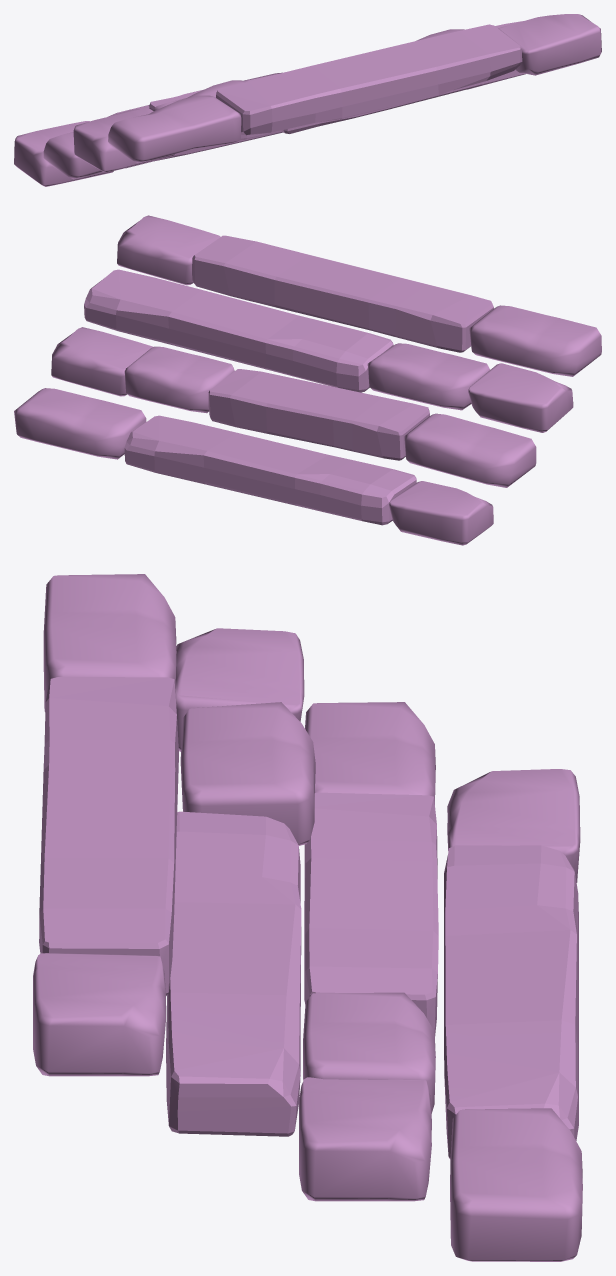
Rendered from Stairs_Pavement_03_Lod0.fbx.
The picture shows the model from 3 angles, top to bottom: view 1: azimuth 30°, elevation 25°; view 2: azimuth 150°, elevation 25°; view 3: azimuth 270°, elevation 25°; orthographic projection. The views are drawn at different scales.
Visible parts, largest first — view 1: Stairs_Pavement_03_Lod0; view 2: Stairs_Pavement_03_Lod0; view 3: Stairs_Pavement_03_Lod0.
Boxes of the visible parts, box(x1,y1,x2,y2) form: Stairs_Pavement_03_Lod0: box(14, 14, 601, 186); Stairs_Pavement_03_Lod0: box(14, 215, 601, 545); Stairs_Pavement_03_Lod0: box(33, 574, 582, 1261).
Size of the model in its own units: 303 by 80.19 by 154.
